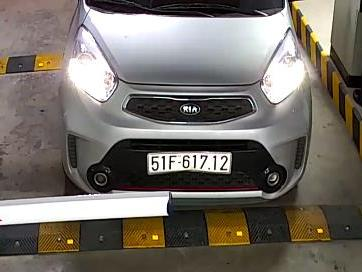number: (148, 150, 232, 177)
